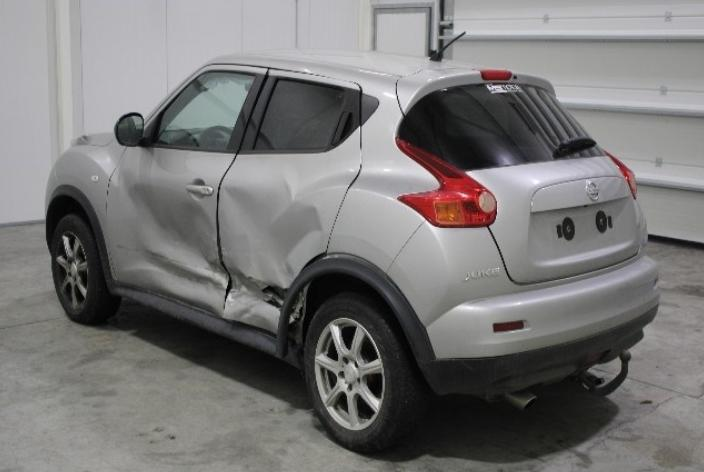Back-bumper: (277, 202, 659, 395)
Back-door: (218, 68, 360, 335)
Back-wheel: (304, 291, 430, 454)
Back-window: (253, 80, 343, 149)
Back-windshield: (396, 83, 607, 170)
Fender: (45, 139, 127, 279)
Front-door: (106, 63, 268, 317)
Front-wheel: (51, 214, 121, 326)
Front-window: (152, 72, 256, 149)
Headlight: (68, 134, 93, 148)
Hood: (89, 132, 115, 147)
Mirror: (114, 112, 153, 146)
Quarter-panel: (327, 140, 439, 274)
Rocker-panel: (106, 280, 301, 370)
Roof: (203, 48, 490, 87)
Tail-light: (396, 138, 496, 228), (605, 152, 637, 199)
Trunk: (463, 156, 640, 283), (397, 68, 556, 115)
